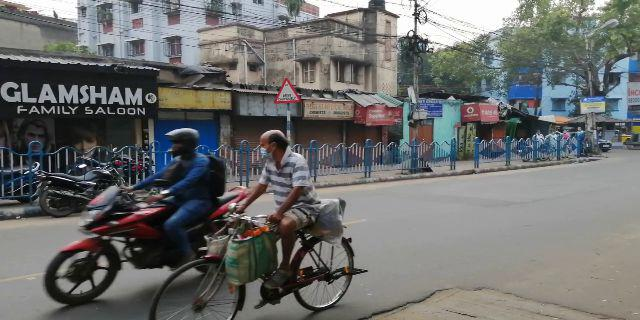Cycle: (145, 128, 372, 311)
Motorbike: (38, 131, 232, 299), (29, 168, 125, 215)
